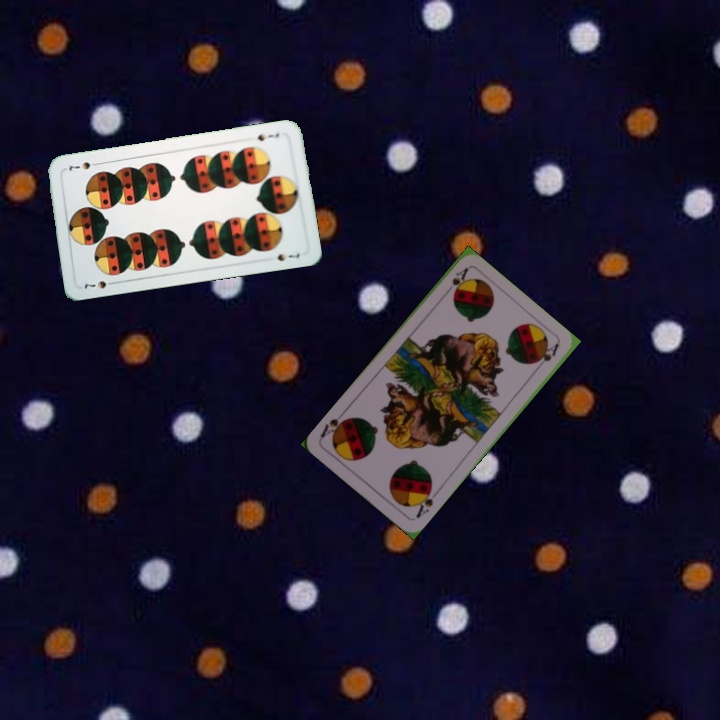S7: (80, 276, 119, 291), (253, 129, 282, 144)
SA: (411, 482, 441, 521), (440, 264, 471, 298)
